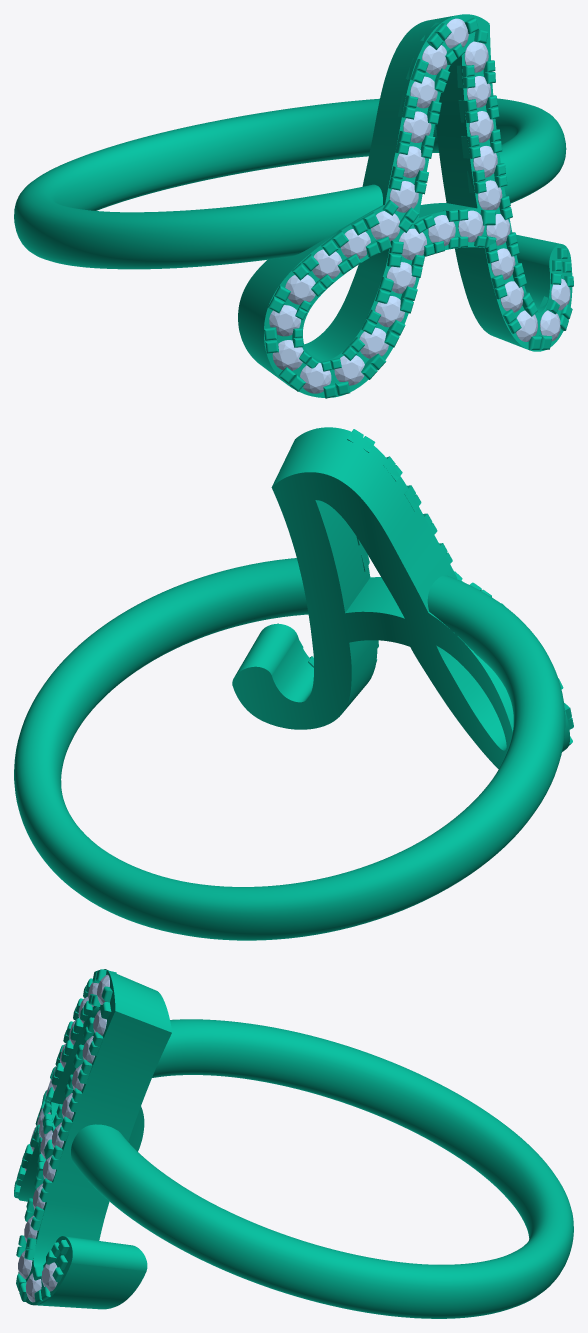
3 renders of one model, top to bottom at view 1: azimuth 30°, elevation 25°; view 2: azimuth 150°, elevation 25°; view 3: azimuth 270°, elevation 25°, orthographic. The views are drawn at different scales.
Visible parts, largest first — view 1: A LETTER RING(base).3dm, Diamond_Round (×29); view 2: A LETTER RING(base).3dm; view 3: A LETTER RING(base).3dm.
Boxes of the visible parts, <box> form: A LETTER RING(base).3dm: <box>14,14,573,398</box>; Diamond_Round (×29): <box>269,18,537,393</box>; A LETTER RING(base).3dm: <box>14,427,573,940</box>; A LETTER RING(base).3dm: <box>14,969,573,1318</box>.
Bounding box in the file's own units: 2.54 × 1.62 × 2.63.
